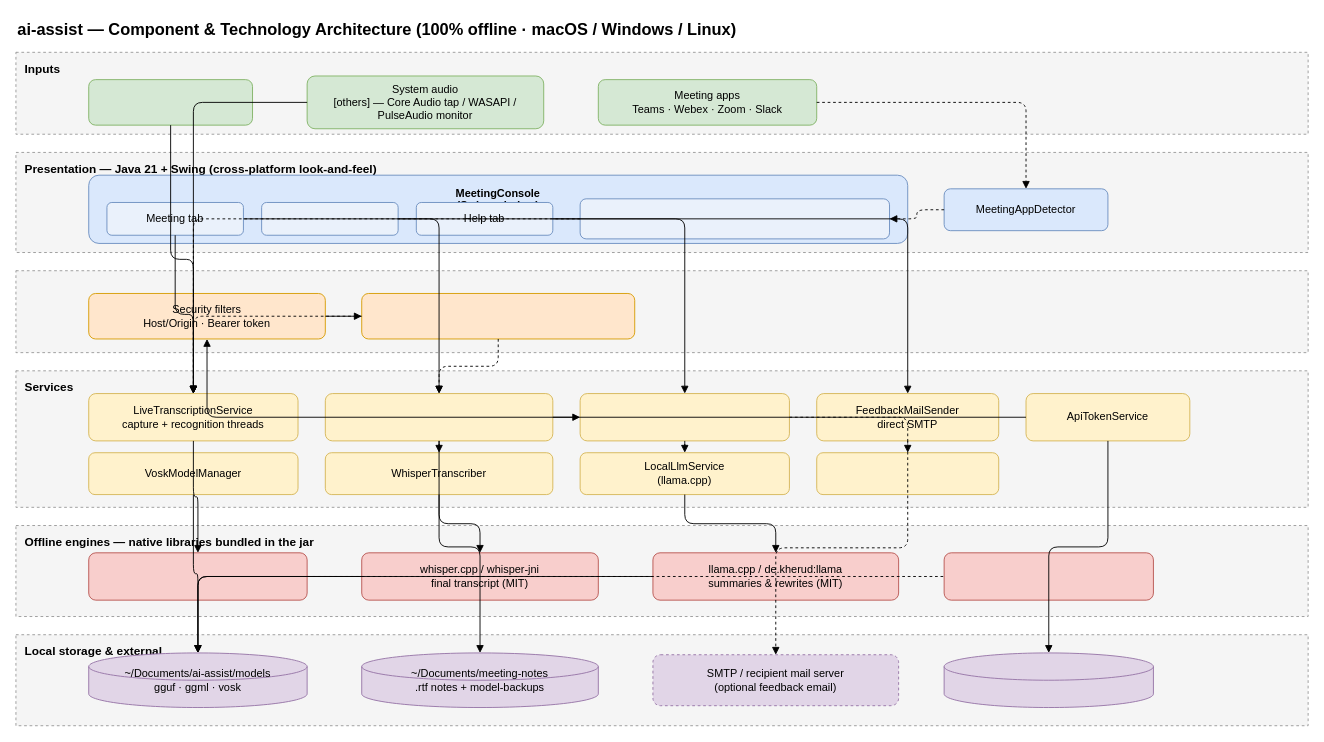
Image size: 1324x742. Some labels were removed from this diagram. The shapes that lost their labels are listed below. From the top down, each one's box as (x1, y1, x2, y2) in pixels, then its label:
(88, 79, 253, 125): Microphone [you]
(261, 202, 398, 235): Assist tab
(579, 198, 890, 239): Auto-start (activity monitor + countdown)
(361, 293, 635, 339): REST controllers Listen · Live · Draft
(15, 270, 1308, 353): Local REST API — Spring Boot 3.5 / Tomcat (bound to 127.0.0.1, bearer token)
(324, 393, 553, 441): MeetingEndService Stop → transcribe → draft → save
(579, 393, 789, 441): StyleRewriteService summaries & style rewrites
(816, 452, 999, 495): TemplateContentDrafter (offline fallback)
(88, 552, 307, 600): Vosk live captions (Apache-2.0)
(943, 552, 1153, 600): JNA (native binding) Apache-2.0 / LGPL-2.1
(943, 652, 1153, 708): ~/.ai-assist/api-token (owner-only)
